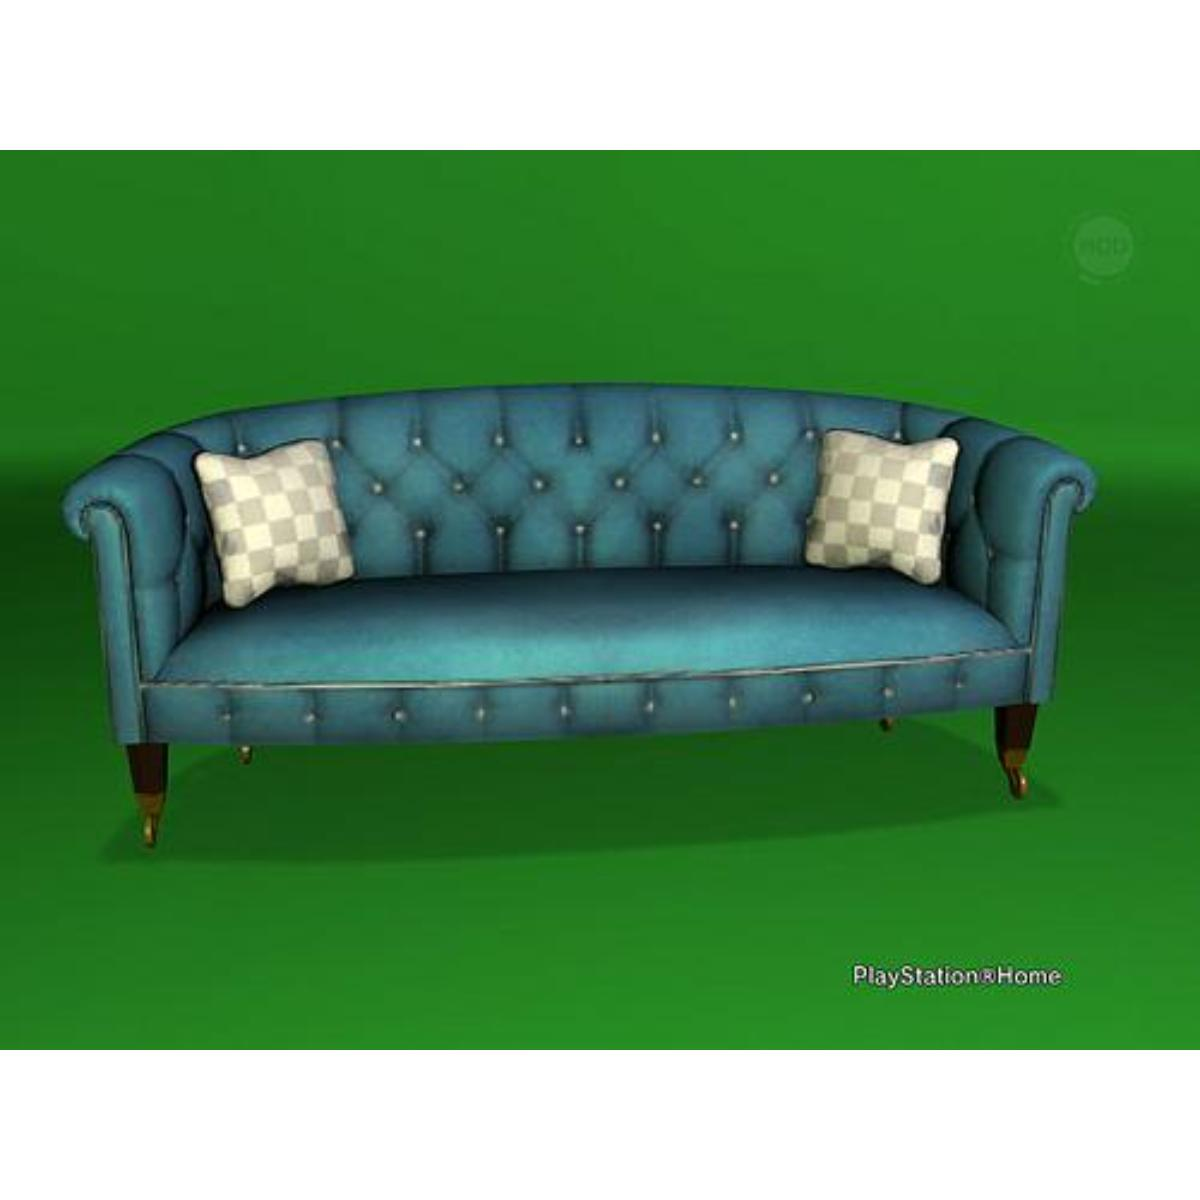Sofa: (69, 382, 1095, 853)
